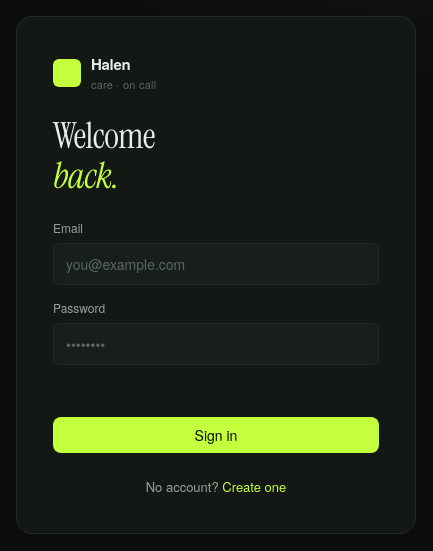
Test: LoginPage › shows error inside the error slot
In the field with placeholder "you@example.com": {"x": 216, "y": 264} [53,243,379,285], type "a@b.com"
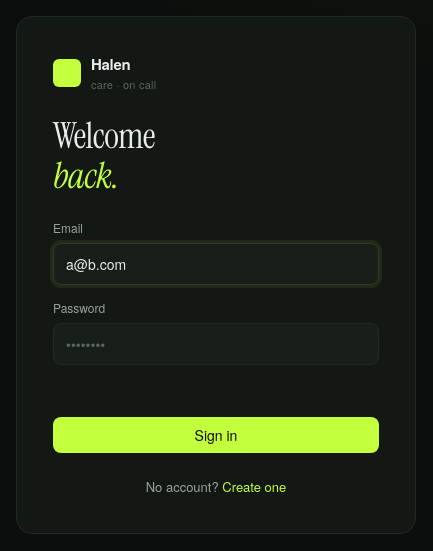
In the password field with placeholder "••••••••": {"x": 216, "y": 344} [53,323,379,365], type "wrong"
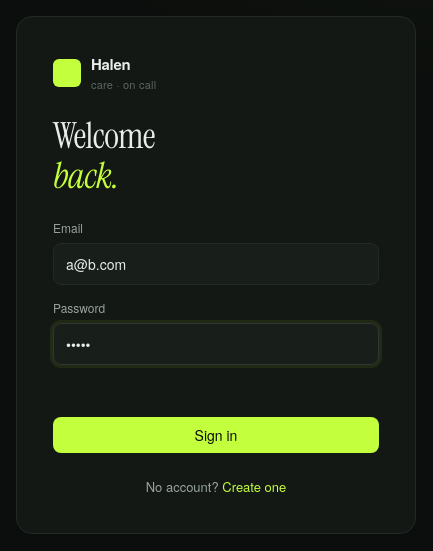
Click the button "Sign in": {"x": 216, "y": 435} [53,417,379,453]
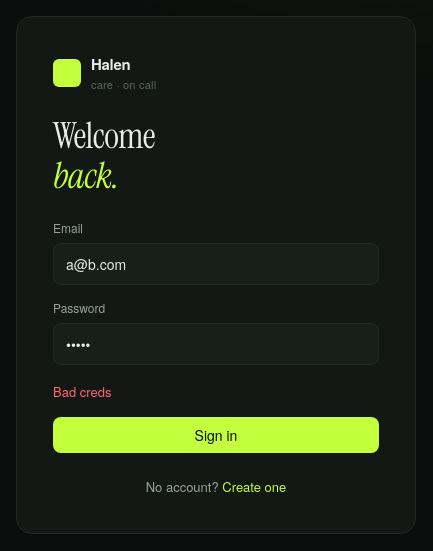
expect the element with class "auth-error-slot" reads "Bad creds": met, box [53,382,111,401]
